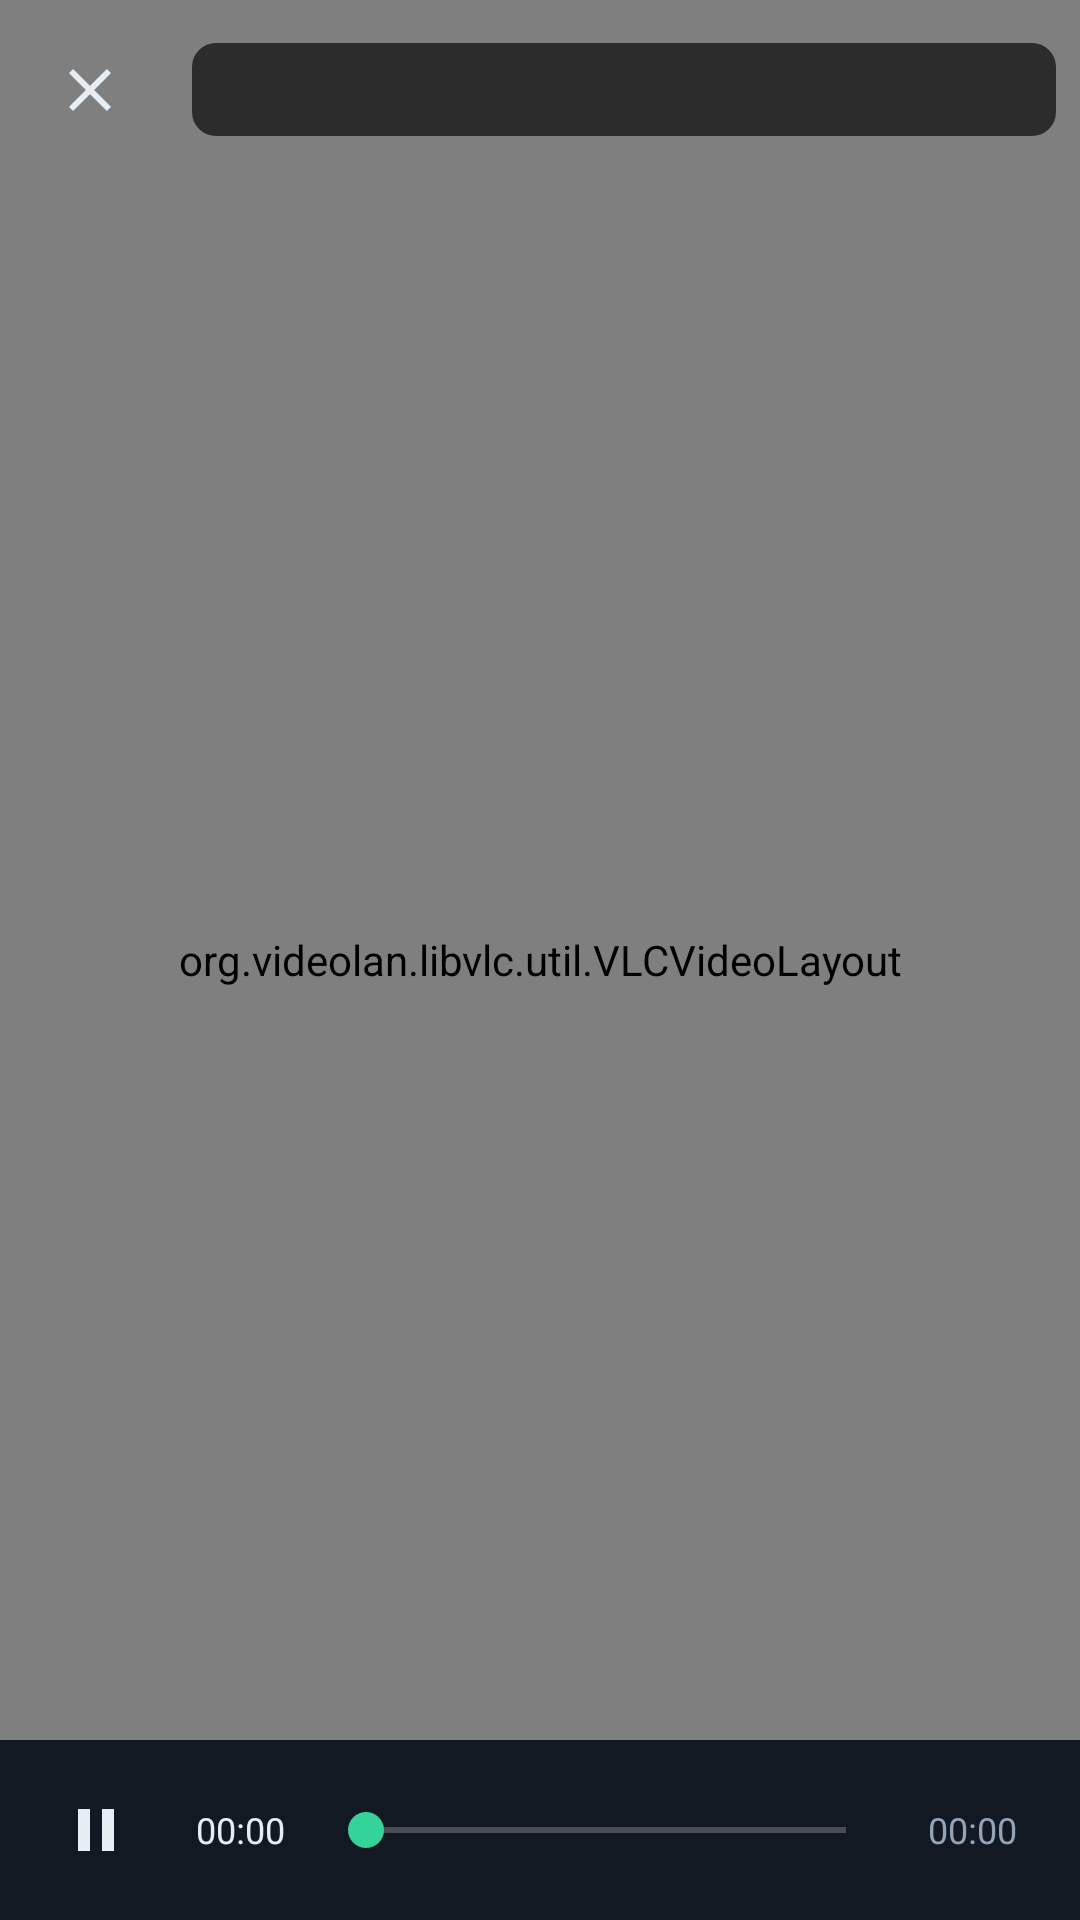

Where icons sit on this 1080 × 1920 app screen, as (x1, y1, x2, y2):
Tutup: (69, 69, 111, 111)
